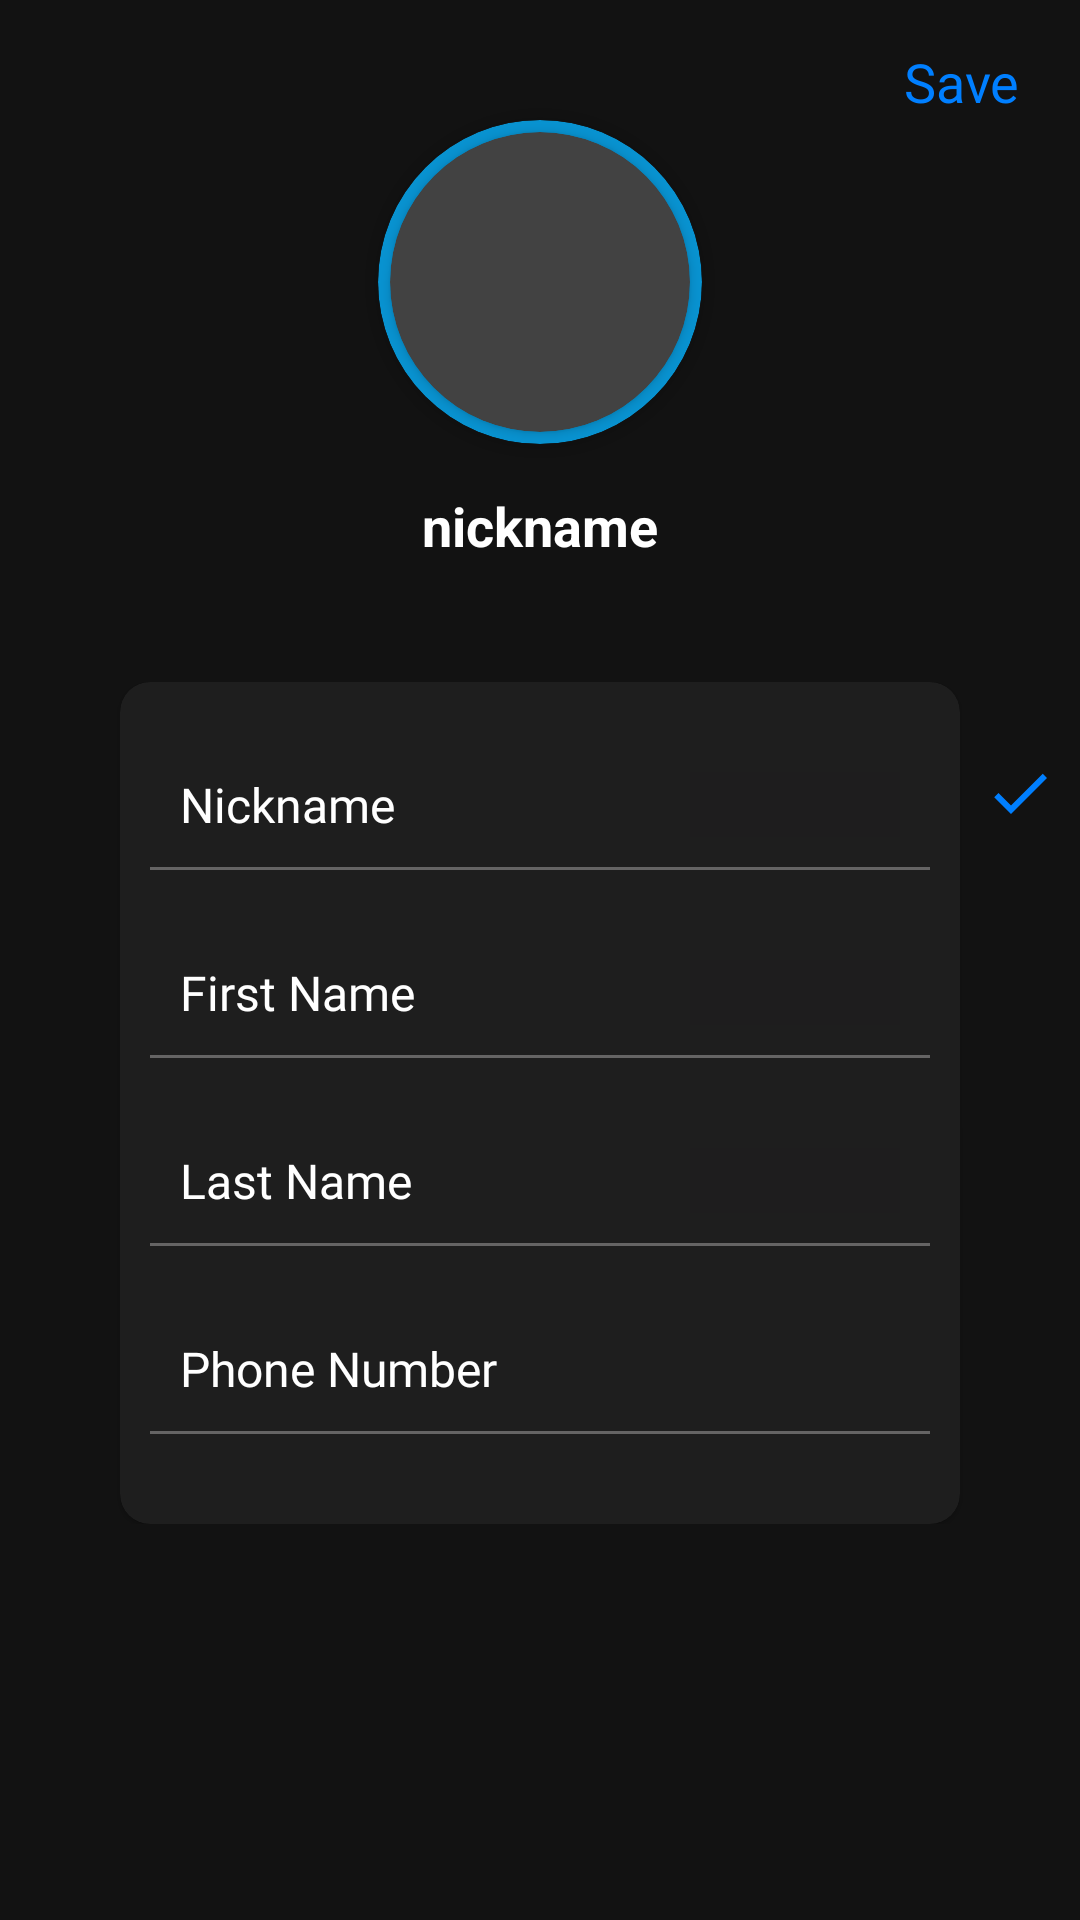

Named icons in this screenshot (1080 x 1920) and their bounding boxes, [x1,y1,x2,y2]:
check: [994,774,1047,814]
